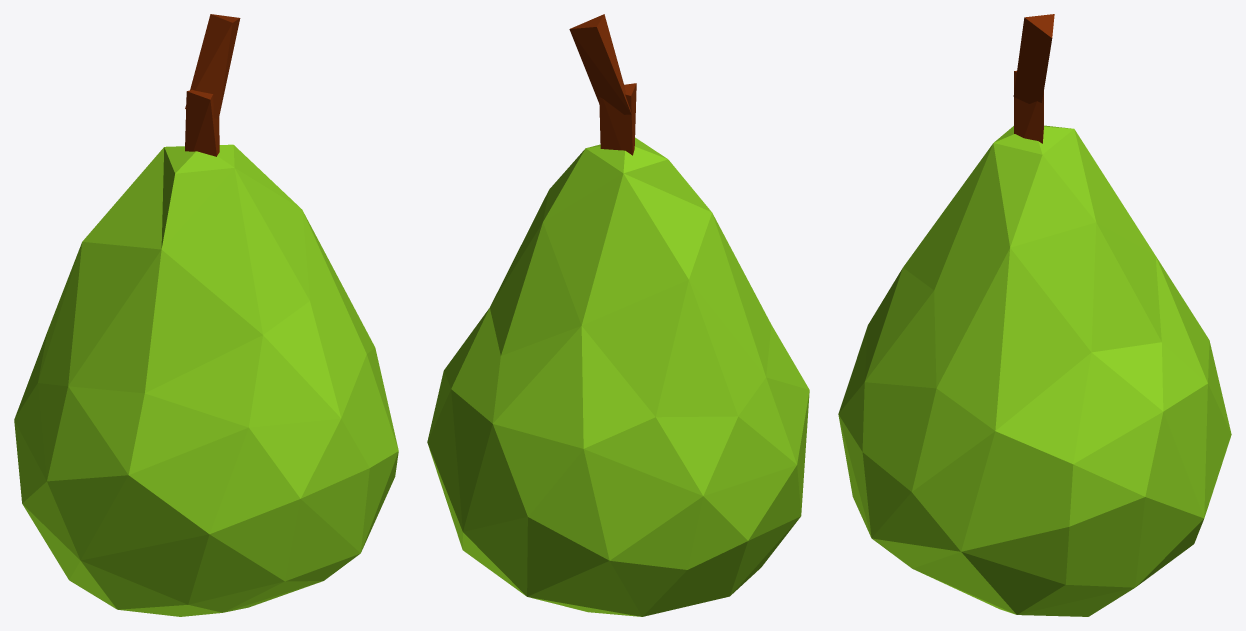
The model's file is peer.fbx.
3 renders of one model, left to right at view 1: azimuth 30°, elevation 25°; view 2: azimuth 150°, elevation 25°; view 3: azimuth 270°, elevation 25°, orthographic.
Parts seen in each view (by area): view 1: Sphere, Cylinder.001, Cylinder; view 2: Sphere, Cylinder.001, Cylinder; view 3: Sphere, Cylinder.001, Cylinder.
Part boxes in pixels (x1=…): Sphere: x1=14, y1=144, x2=398, y2=616; Cylinder.001: x1=185, y1=14, x2=240, y2=119; Cylinder: x1=185, y1=89, x2=219, y2=156; Sphere: x1=427, y1=137, x2=809, y2=616; Cylinder.001: x1=569, y1=14, x2=631, y2=114; Cylinder: x1=599, y1=83, x2=636, y2=155; Sphere: x1=838, y1=125, x2=1231, y2=616; Cylinder.001: x1=1013, y1=14, x2=1054, y2=103; Cylinder: x1=1014, y1=70, x2=1043, y2=143.
Bounding box in the file's own units: 202 × 330 × 203.
